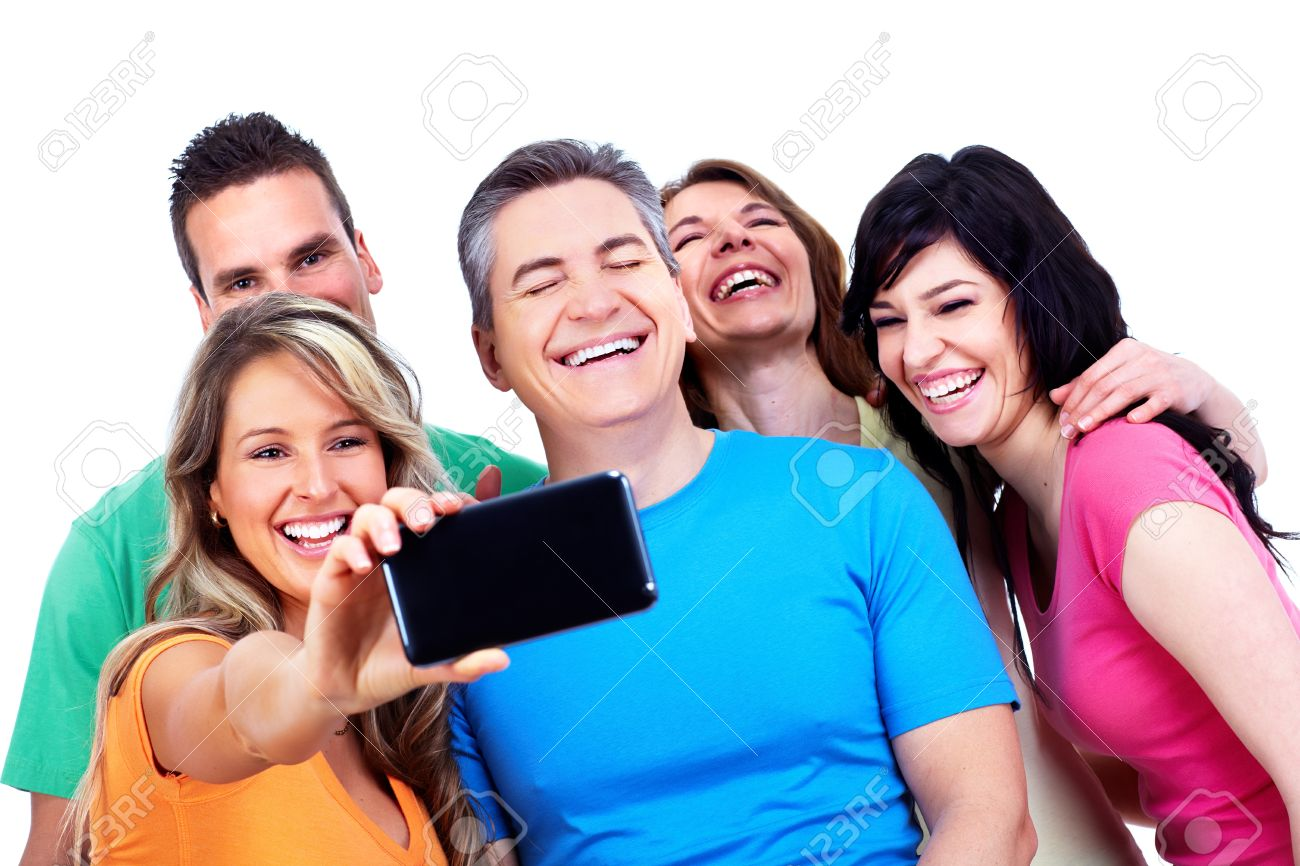smartphone: (378, 466, 664, 669)
